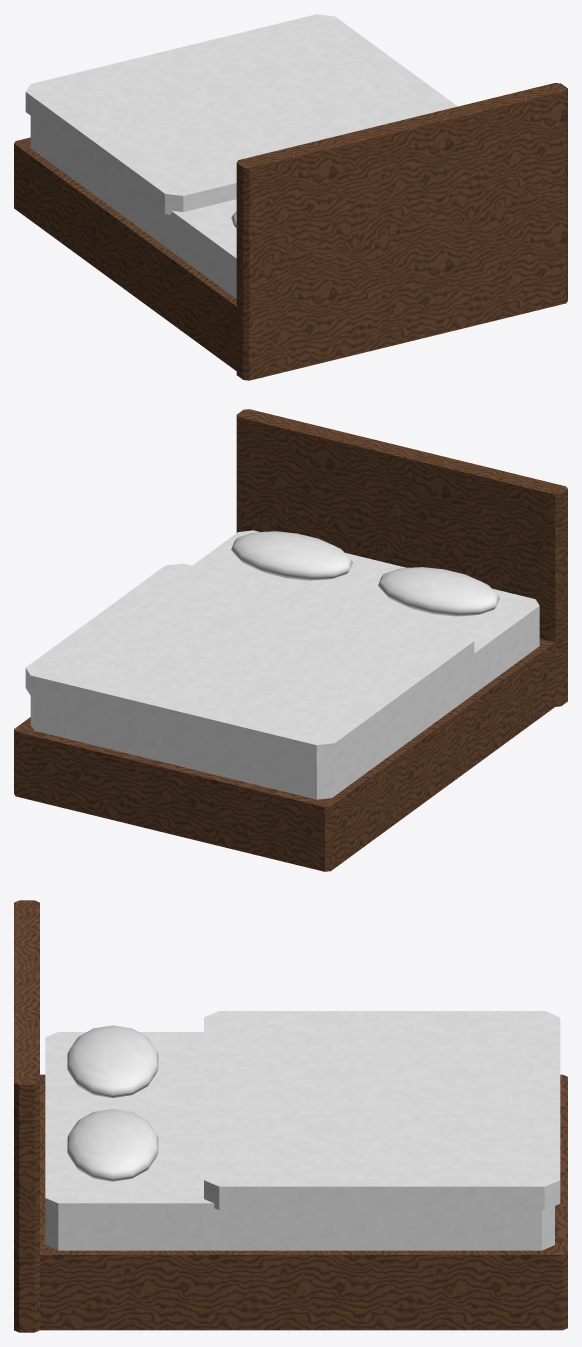
The model's file is bed_double.obj.
The picture shows the model from 3 angles, top to bottom: view 1: azimuth 30°, elevation 25°; view 2: azimuth 150°, elevation 25°; view 3: azimuth 270°, elevation 25°; orthographic projection. The views are drawn at different scales.
Visible parts, largest first — view 1: bed_double; view 2: bed_double; view 3: bed_double.
Part boxes in pixels (x1,y1,x2,y2): bed_double: (14,14,567,380); bed_double: (14,409,567,871); bed_double: (14,900,567,1332).
Size of the model in its own units: 1.68 by 1.05 by 2.13.
4 materials, 4 textured.
